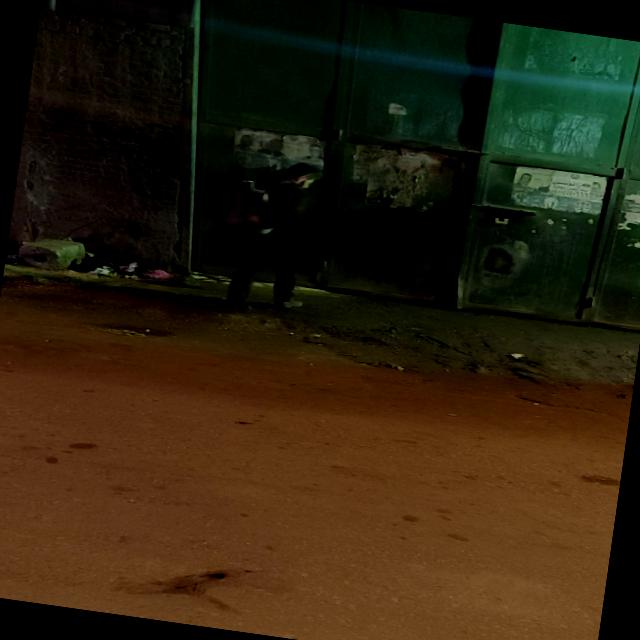long weapon: (235, 174, 276, 236)
